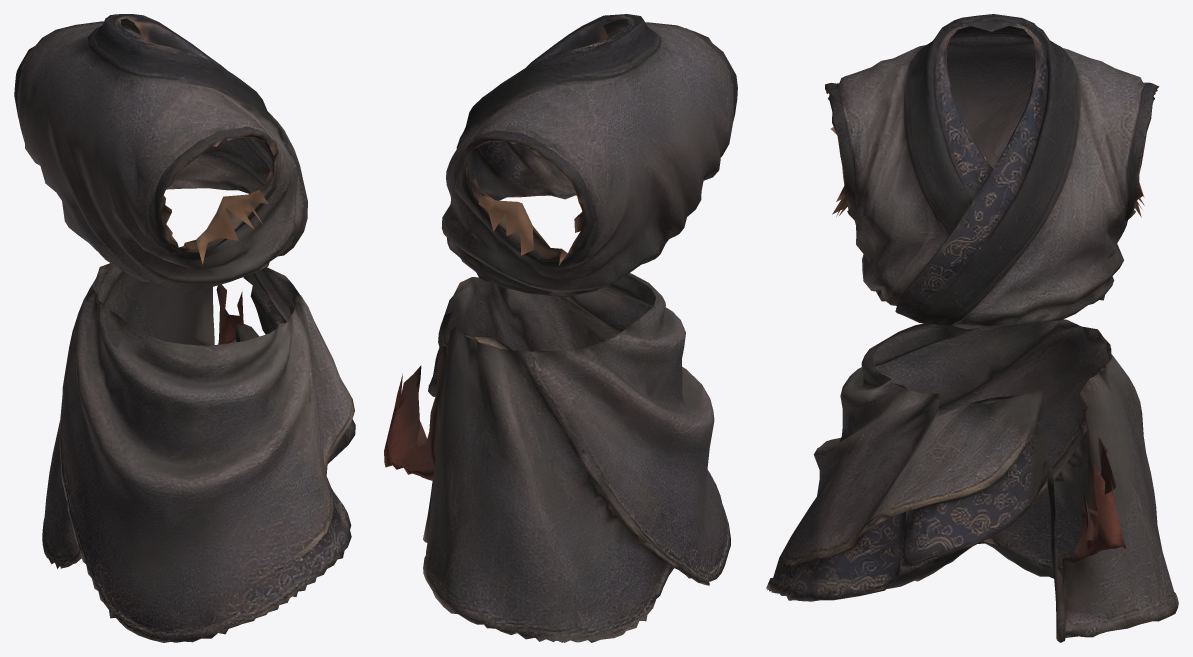
The model's file is top.glb.
3 views of the same model, side by side, from view 1: azimuth 30°, elevation 25°; view 2: azimuth 150°, elevation 25°; view 3: azimuth 270°, elevation 25° (orthographic). The views are drawn at different scales.
Visible parts, largest first — view 1: top; view 2: top; view 3: top.
Boxes of the visible parts, <box> form: top: <box>14,14,355,642</box>; top: <box>384,14,737,642</box>; top: <box>766,14,1178,642</box>.
Size of the model in its own units: 0.2843 by 0.605 by 0.3825.
4 materials, 4 textured.
